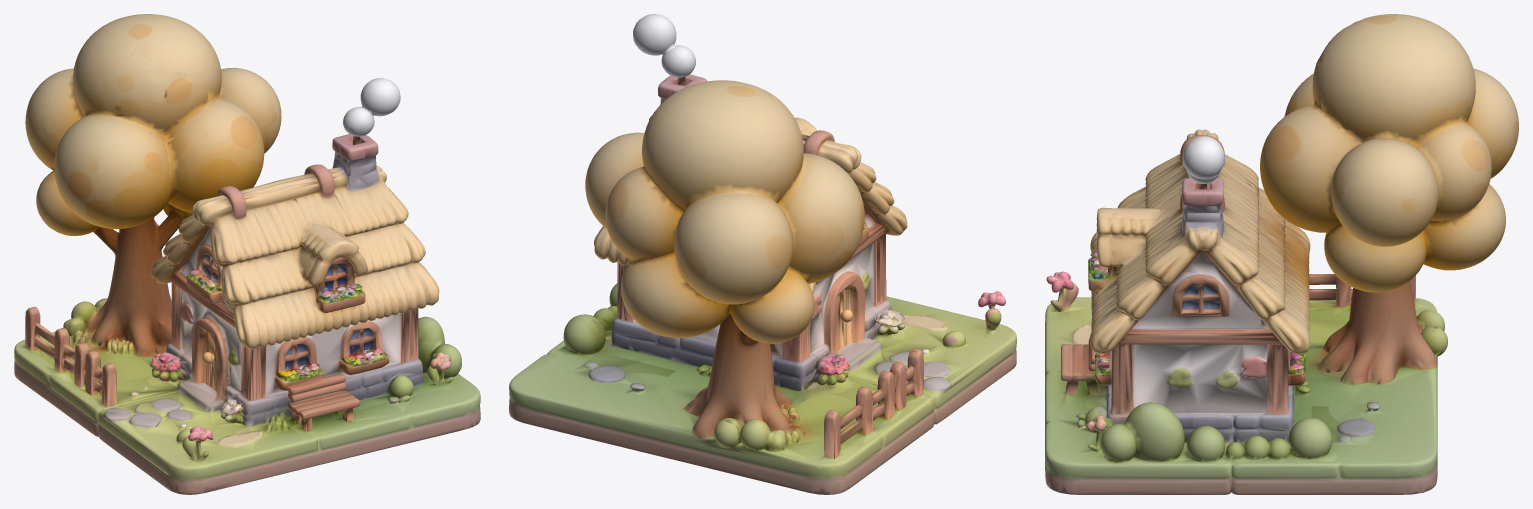
The model's file is golden-tree-house.glb.
3 views of the same model, side by side, from view 1: azimuth 30°, elevation 25°; view 2: azimuth 150°, elevation 25°; view 3: azimuth 270°, elevation 25° (orthographic). The views are drawn at different scales.
Visible parts, largest first — view 1: node_0; view 2: node_0; view 3: node_0.
Part boxes in pixels (x1,y1,x2,y2): node_0: [14, 14, 480, 494]; node_0: [509, 14, 1016, 494]; node_0: [1045, 14, 1518, 494].
Bounding box in the file's own units: 0.6712 × 0.6796 × 0.7899.
1 material, 1 textured.
